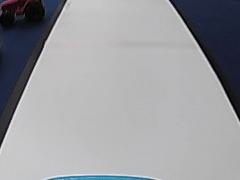Tracktor: (0, 0, 46, 27)
